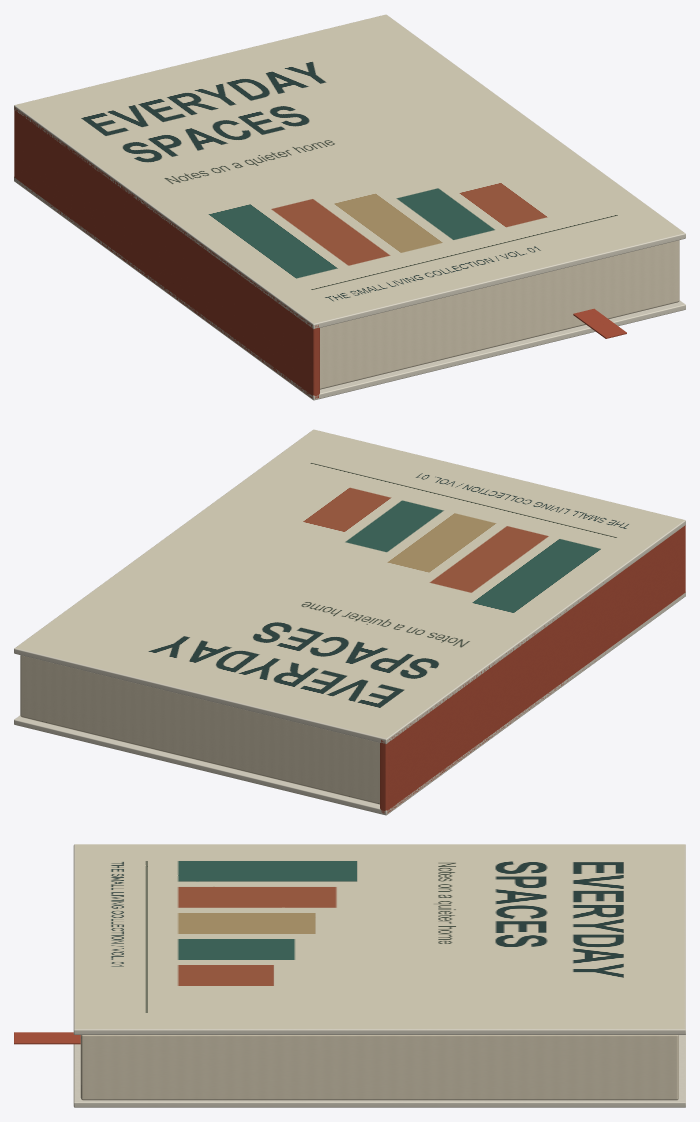
Rendered from book_01.glb.
3 renders of one model, top to bottom at view 1: azimuth 30°, elevation 25°; view 2: azimuth 150°, elevation 25°; view 3: azimuth 270°, elevation 25°, orthographic. The views are drawn at different scales.
Parts seen in each view (by area): view 1: book_01; view 2: book_01; view 3: book_01.
Part boxes in pixels (box(x1,y1,x2,y2)): book_01: box(14, 14, 685, 400); book_01: box(14, 429, 685, 815); book_01: box(14, 844, 685, 1107).
Size of the model in its own units: 0.158 by 0.0311 by 0.2415.
4 materials, 4 textured.
